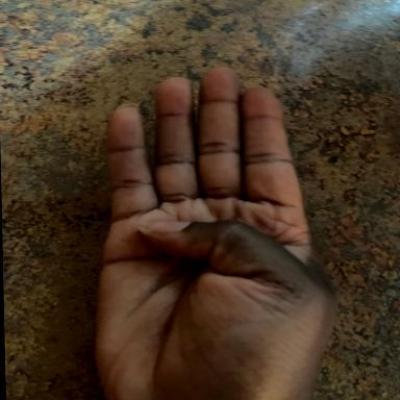hand: (79, 61, 347, 399)
